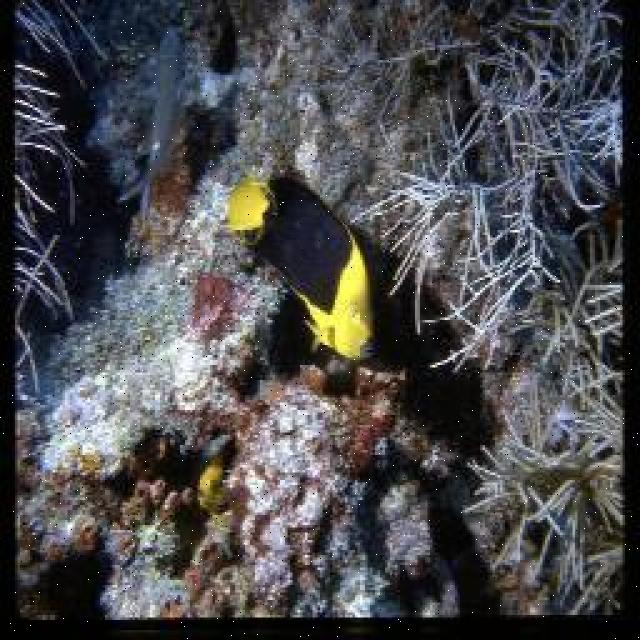aquatic plants: (351, 0, 628, 376), (469, 412, 624, 601), (15, 62, 84, 391), (533, 218, 624, 425), (15, 0, 113, 90), (570, 539, 621, 613), (581, 283, 627, 340)
fish: (219, 169, 374, 359), (118, 30, 196, 227), (199, 460, 225, 511)
sea-floor: (14, 0, 485, 481), (14, 367, 466, 616)
